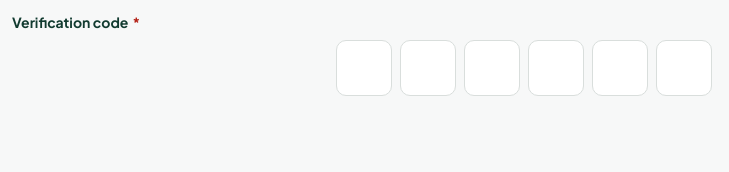
SixDigitOtpInput › accepts digits only, advances focus, and exposes one canonical string
The width and height of the screenshot is (729, 172).
Type "a1" into the field named "Digit 1 of 6".
click(364, 68); type("a1")  # box [336,40,392,96]
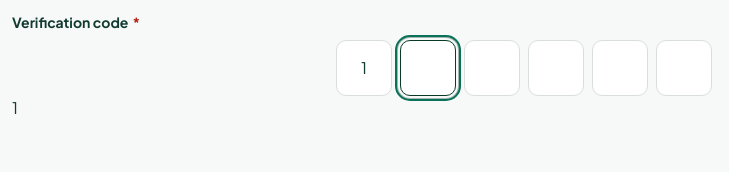
expect the field named "Digit 1 of 6" holds "1": met, box [336,40,392,96]
Type "-2" into the field named "Digit 2 of 6".
click(428, 68); type("-2")  # box [400,40,456,96]
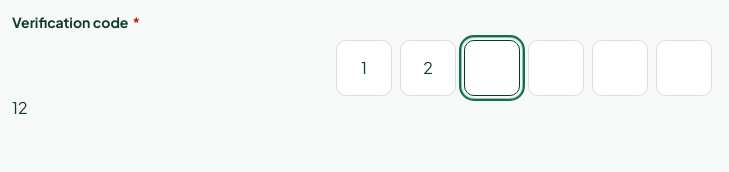
expect the text with test id "canonical-otp" reads "12": met, box [12,97,28,118]
